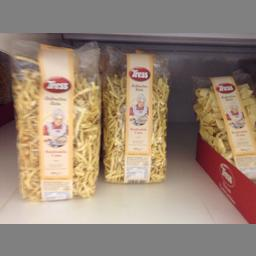pasta: (6, 36, 100, 202), (100, 42, 170, 183), (192, 68, 255, 178)
